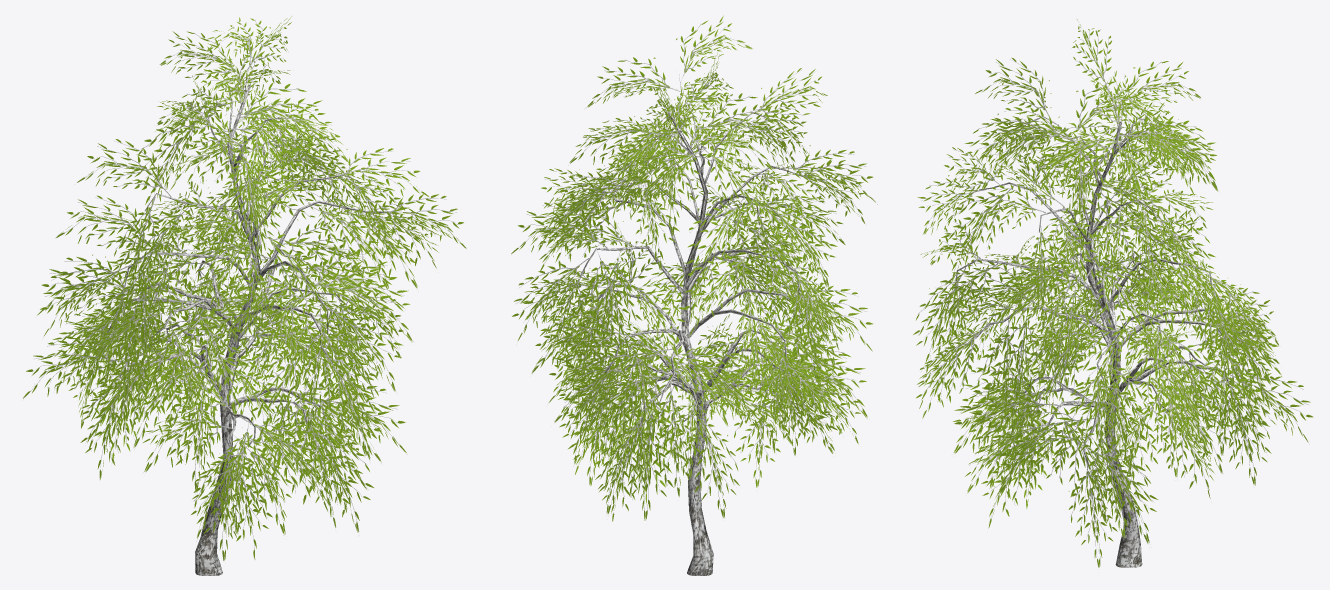
Rendered from birch.glb.
3 views of the same model, side by side, from view 1: azimuth 30°, elevation 25°; view 2: azimuth 150°, elevation 25°; view 3: azimuth 270°, elevation 25° (orthographic). The views are drawn at different scales.
Parts seen in each view (by area): view 1: tree.002; view 2: tree.002; view 3: tree.002.
Part boxes in pixels (left/top/right/bottom): tree.002: left=23, top=16, right=466, bottom=575; tree.002: left=511, top=15, right=877, bottom=575; tree.002: left=913, top=19, right=1313, bottom=567.
Size of the model in its own units: 191 by 265 by 176.
Materials: 2 (2 with a texture image).
